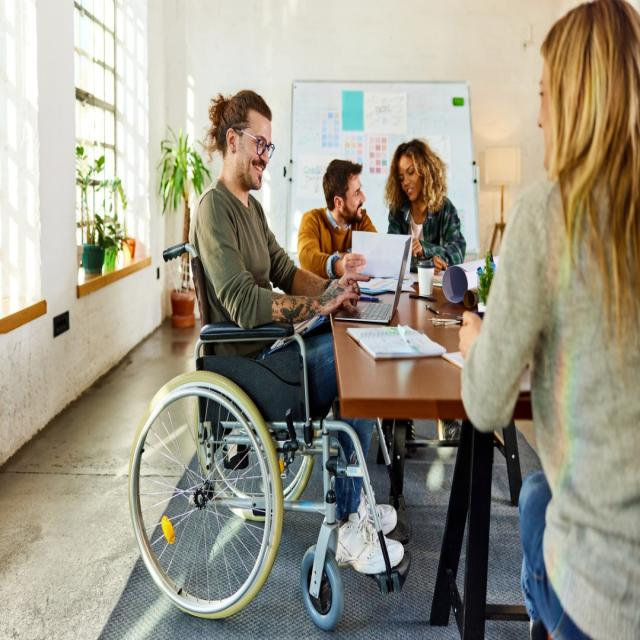wheelchairs: (126, 237, 421, 632)
